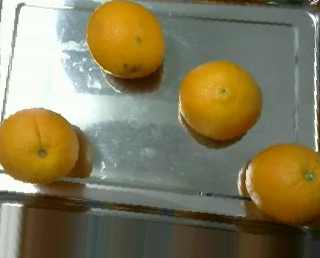Orange: (178, 60, 263, 141), (244, 142, 319, 226), (86, 1, 165, 79), (1, 107, 79, 184)
